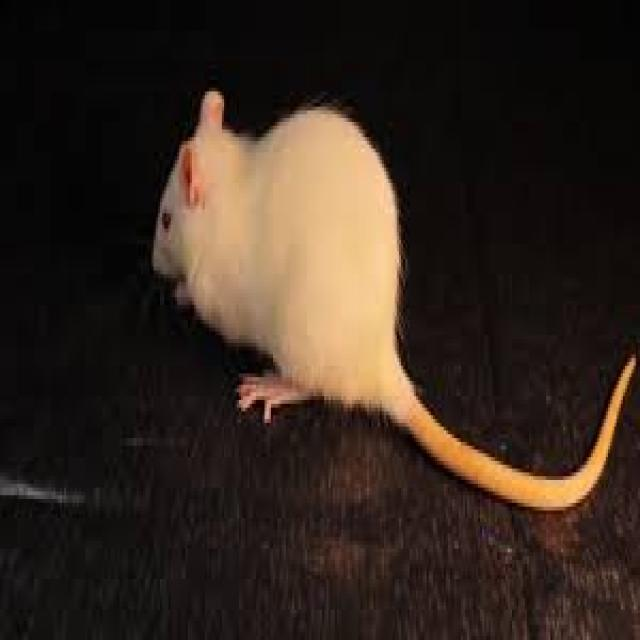rat: (149, 84, 636, 510)
